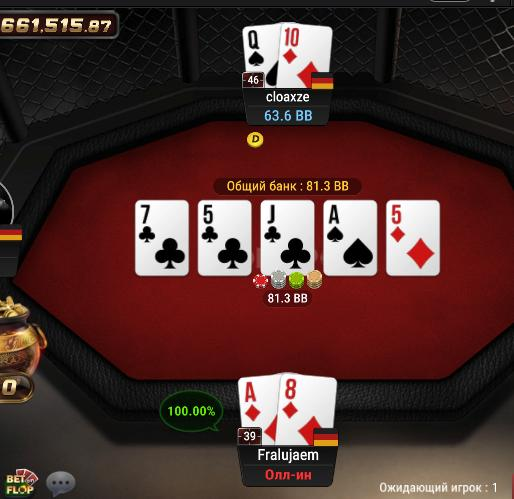10d: (279, 23, 331, 86)
5c: (199, 199, 252, 276)
5d: (388, 201, 438, 275)
7c: (136, 201, 189, 275)
8d: (279, 373, 335, 447)
Ad: (239, 376, 279, 446)
As: (323, 201, 375, 274)
Jc: (261, 201, 313, 276)
Qs: (243, 25, 280, 90)
